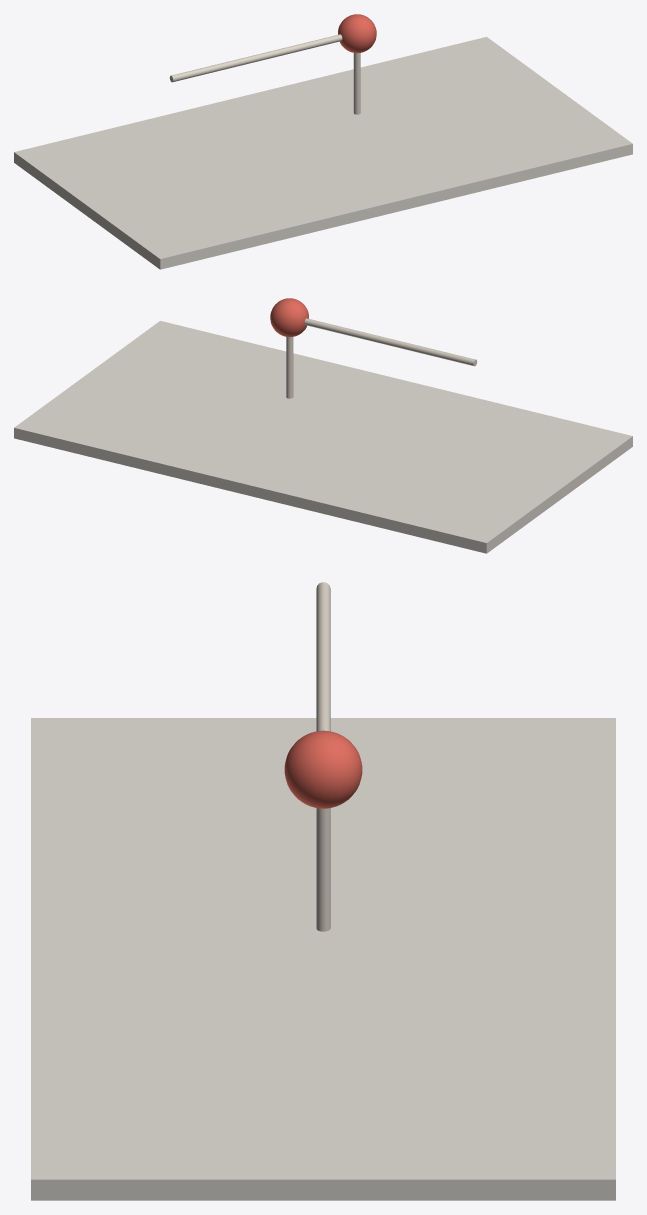
Rendered from math-data-data-point.glb.
3 views of the same model, one above another, from view 1: azimuth 30°, elevation 25°; view 2: azimuth 150°, elevation 25°; view 3: azimuth 270°, elevation 25° (orthographic). The views are drawn at different scales.
Visible parts, largest first — view 1: manipulative-base, y-guide, single-data-point, x-guide; view 2: manipulative-base, y-guide, single-data-point, x-guide; view 3: manipulative-base, single-data-point, y-guide, x-guide.
Part boxes in pixels (left/top/right/bottom): manipulative-base: left=14, top=37, right=632, bottom=269; y-guide: left=169, top=34, right=342, bottom=82; single-data-point: left=338, top=14, right=376, bottom=53; x-guide: left=353, top=53, right=360, bottom=114; manipulative-base: left=14, top=321, right=632, bottom=553; y-guide: left=304, top=318, right=477, bottom=366; single-data-point: left=270, top=298, right=308, bottom=337; x-guide: left=286, top=337, right=293, bottom=398; manipulative-base: left=31, top=718, right=615, bottom=1200; single-data-point: left=284, top=730, right=362, bottom=808; y-guide: left=316, top=582, right=330, bottom=731; x-guide: left=316, top=808, right=330, bottom=931.
Size of what is drawn, in the model's own units: 2.8 by 0.76 by 1.5.
